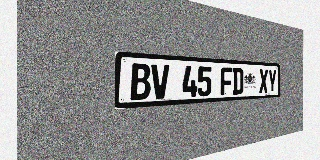4: (182, 65, 197, 97)
5: (198, 66, 211, 97)
B: (130, 63, 151, 100)
D: (233, 68, 243, 95)
F: (221, 67, 232, 95)
V: (151, 64, 169, 99)
X: (259, 69, 268, 93)
Y: (268, 69, 276, 93)
